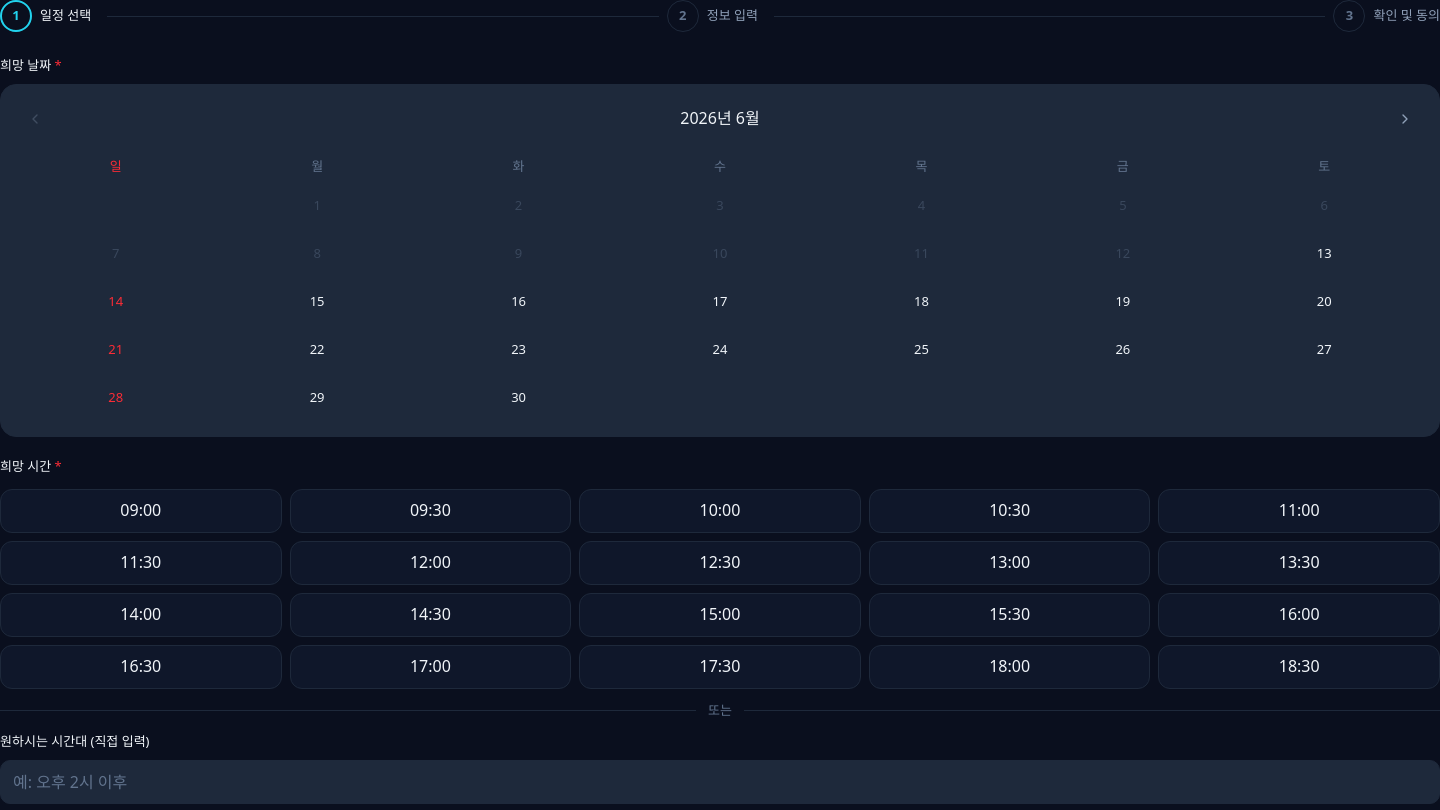
Test: ReservationForm — 스텝 위저드 › 이전 버튼으로 단계를 되돌릴 수 있다
Click the button named "다음 달". click: (1405, 118)
box: [1387,100,1423,136]
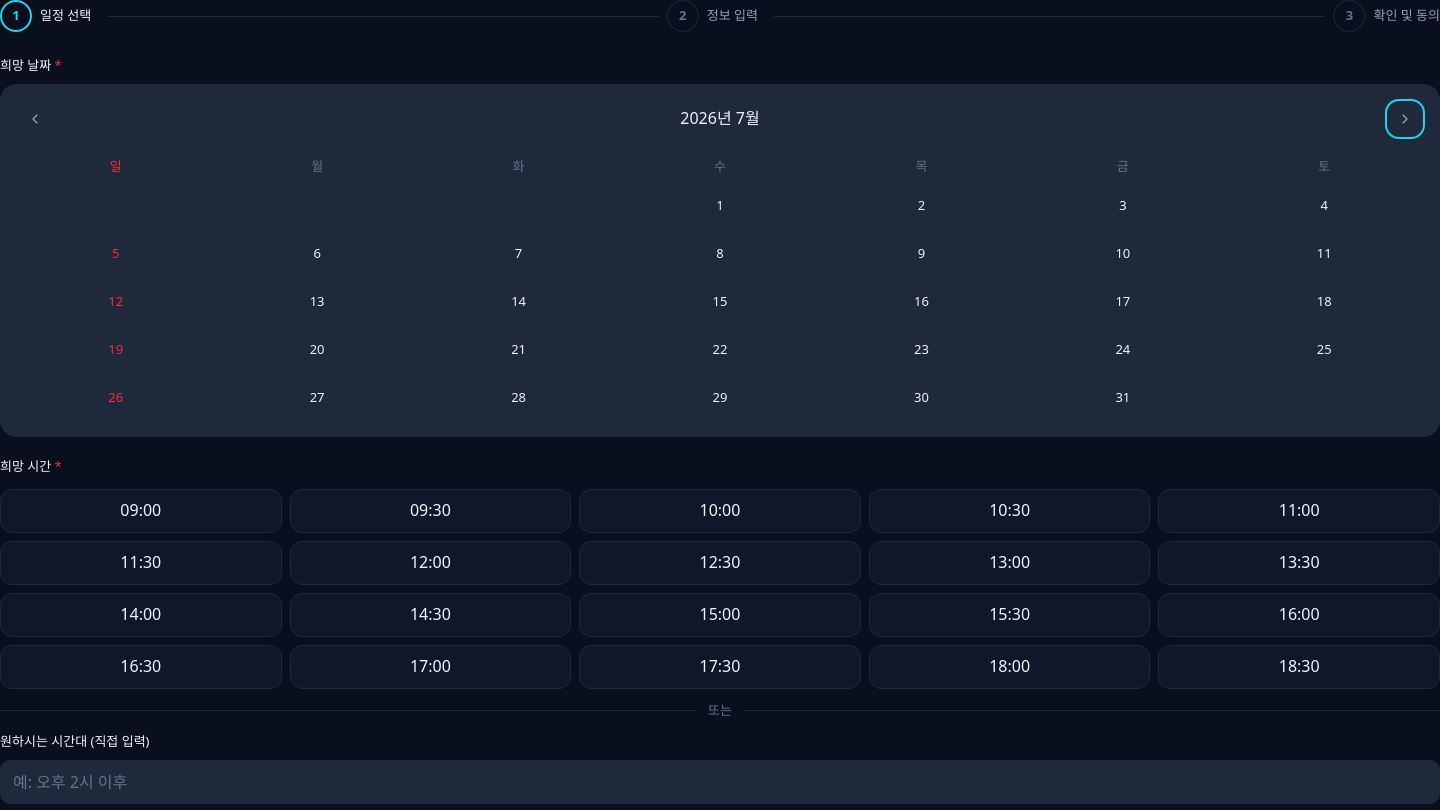
Click the button "15". click: (720, 302)
box: [621,280,819,324]
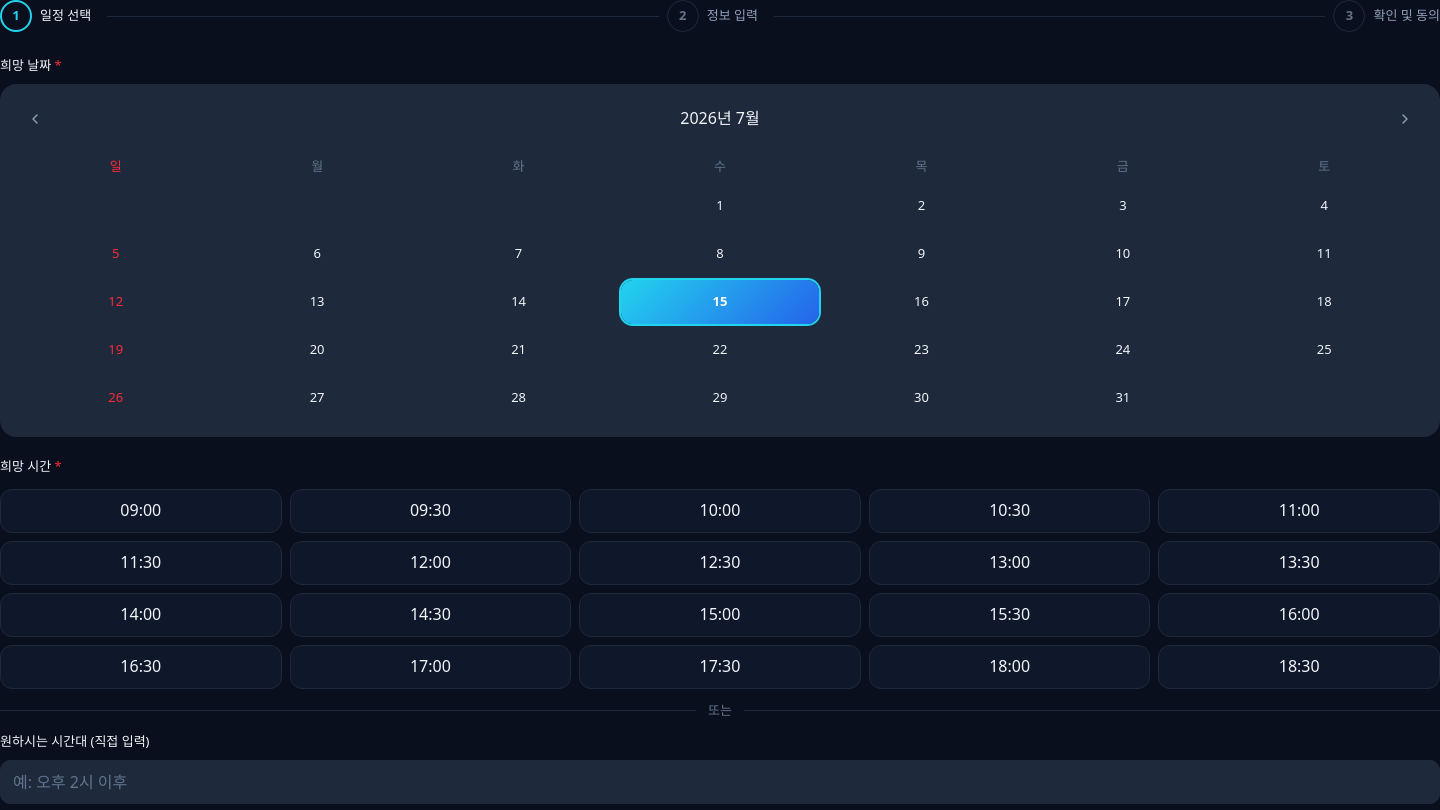
Click the button "14:00". click: (141, 614)
box: [0,592,282,636]
(page scrolled)
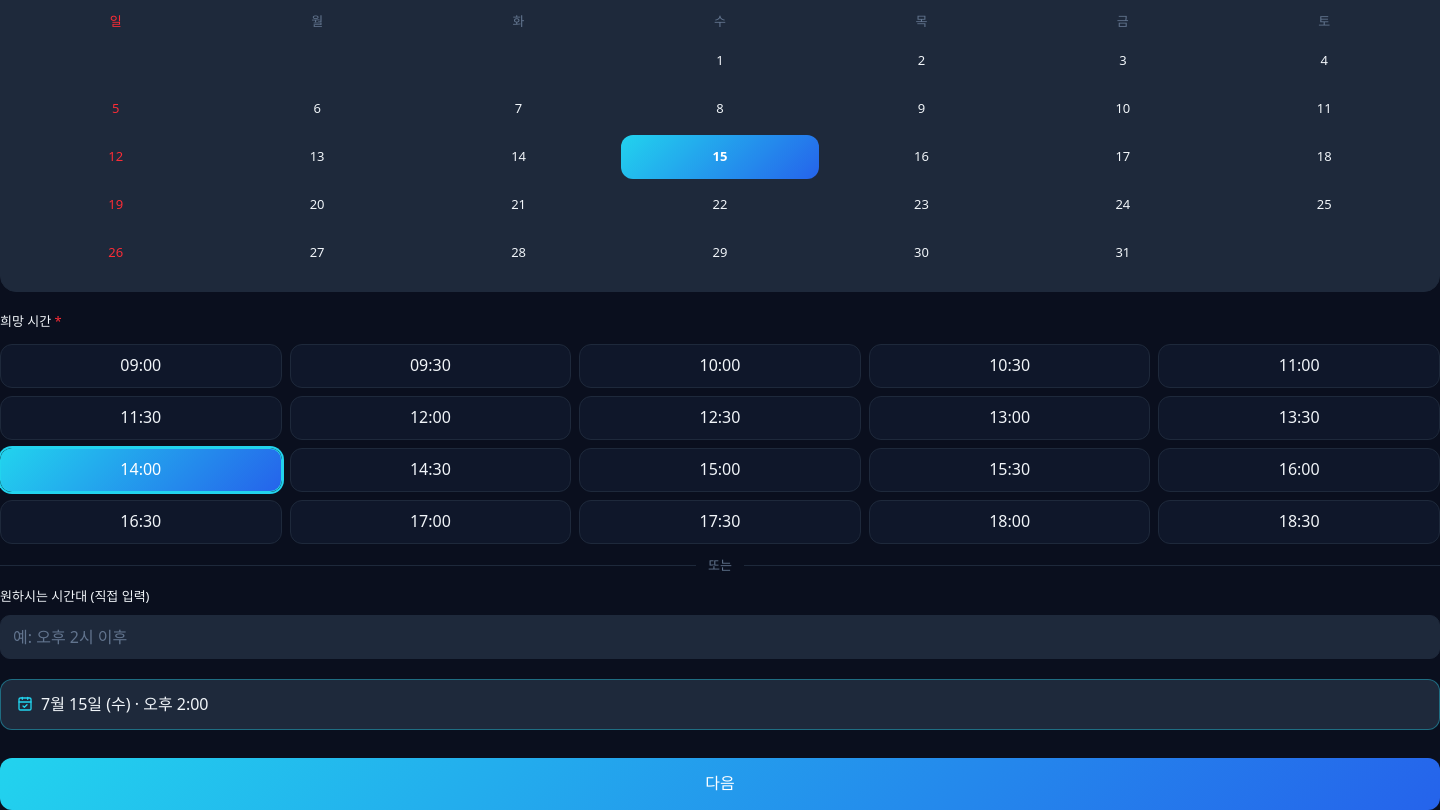
Click the button "다음". click: (720, 784)
box: [0,758,1439,809]
(page scrolled)
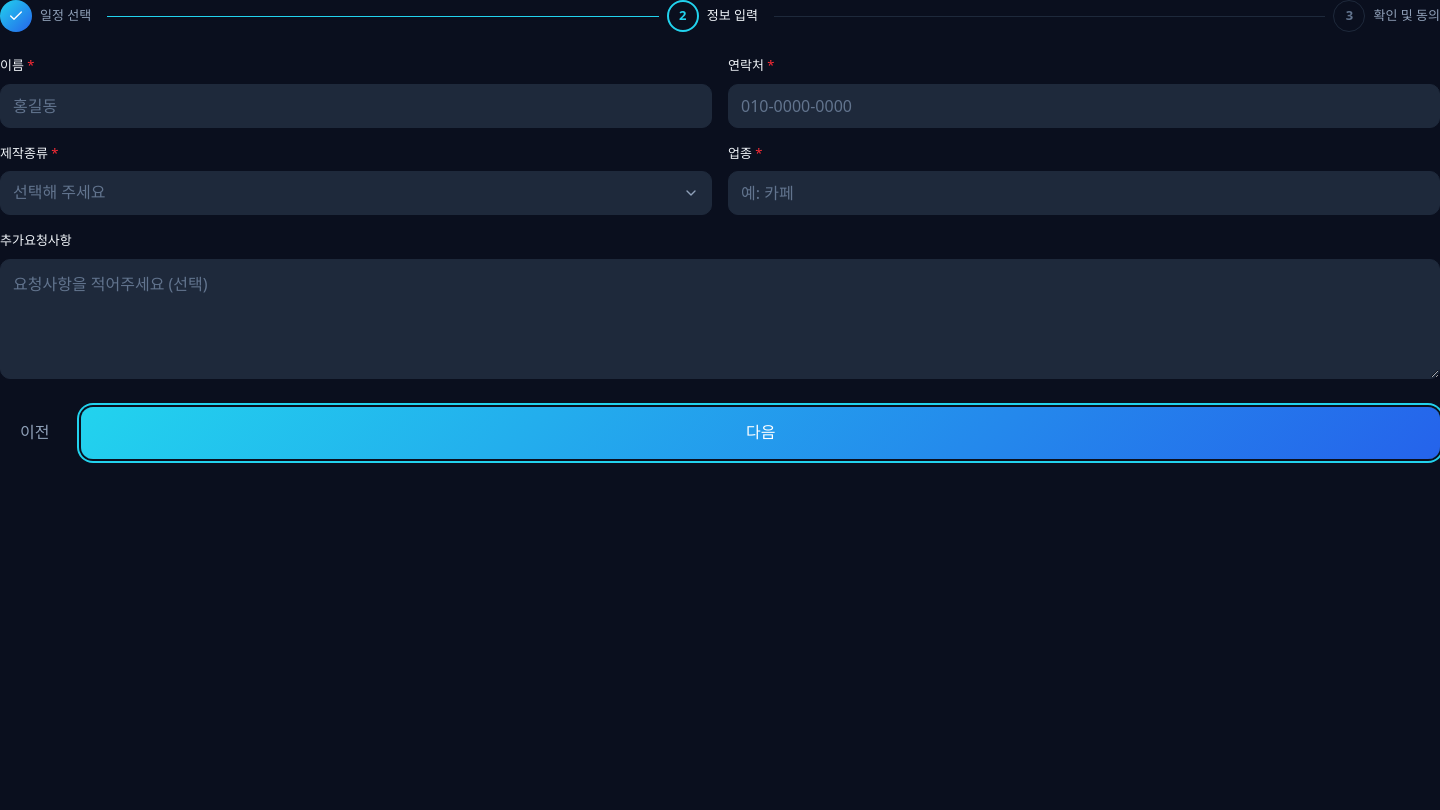
Now the field labelled "이름 *" is shown, box [0,84,712,128]
Click the button "이전". click: (35, 432)
box: [0,410,70,454]
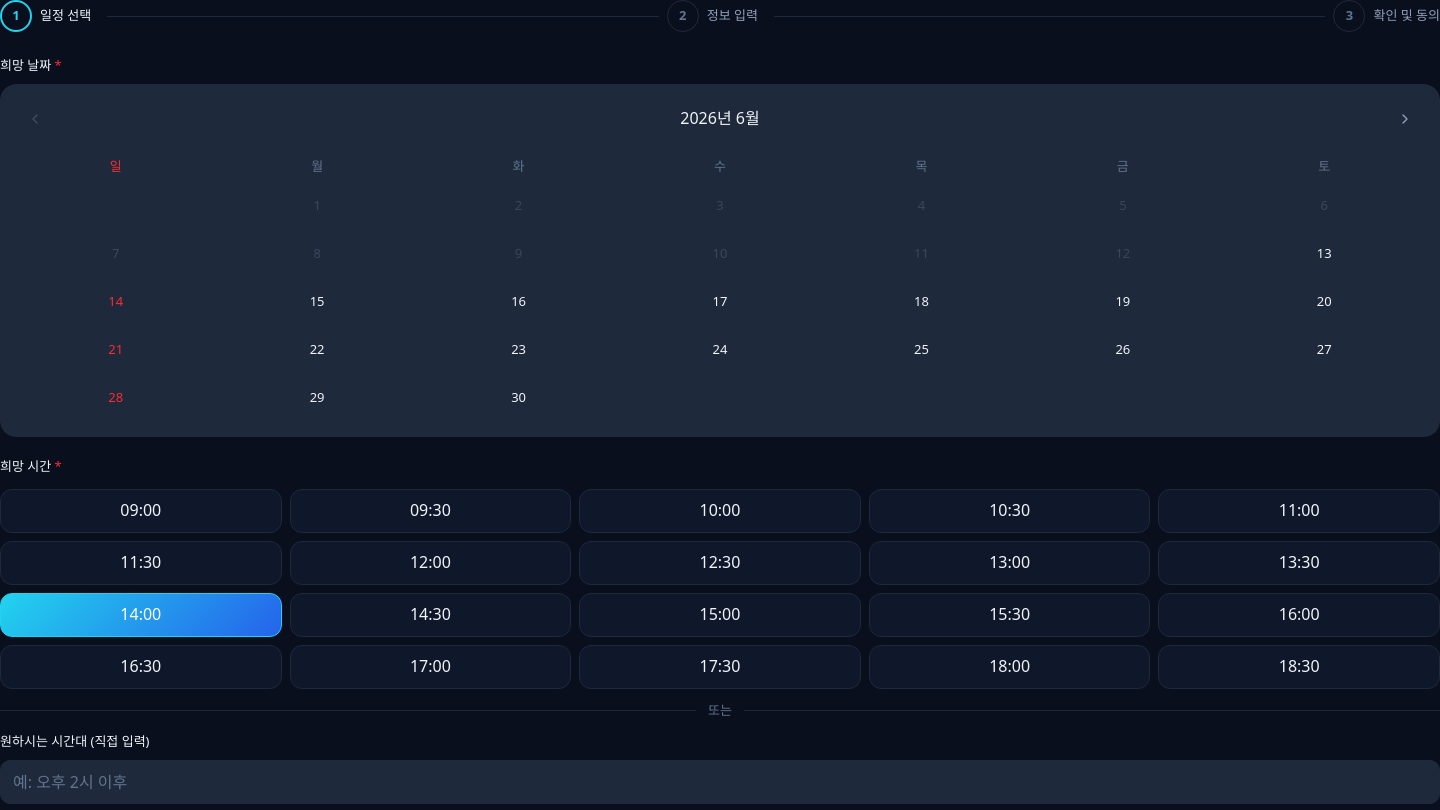
Now the element named "희망 날짜 선택" is shown, box [0,84,1439,437]
